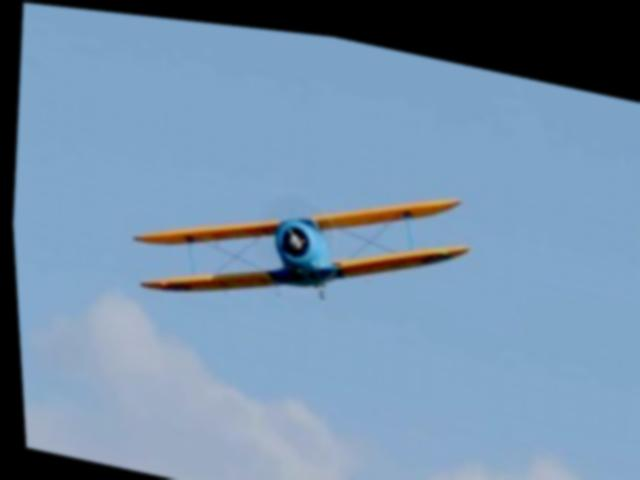uav: (117, 118, 477, 351)
